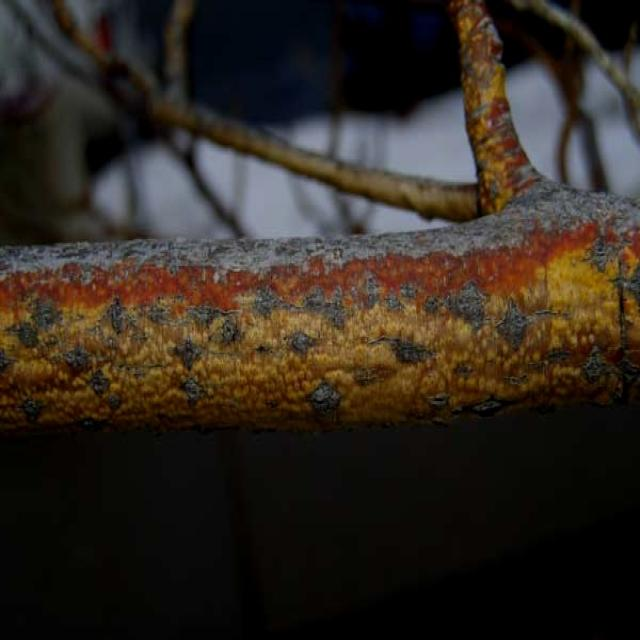Golden_canker: (0, 168, 640, 468)
